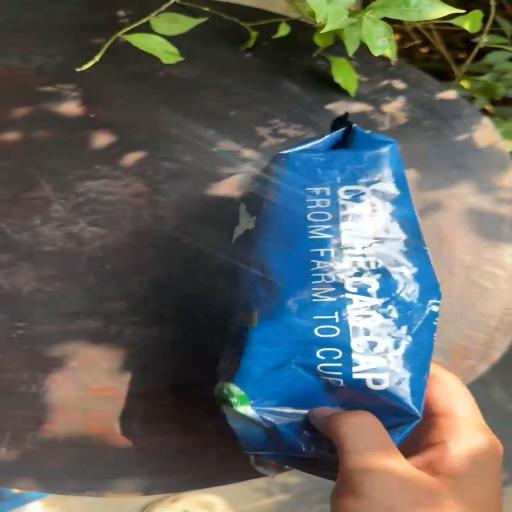cafe_hat: (217, 115, 441, 479)
